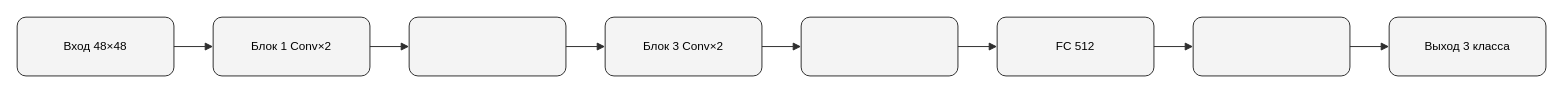
The diagram is 1563 pixels wide and 93 high, and some of its shapes have lost their labels. The centre of each missing label's shape, as x and y in pixels:
FC 256: pixel 1271 46
Блок 2 Conv×2: pixel 487 46
Блок 4 Conv: pixel 879 46
